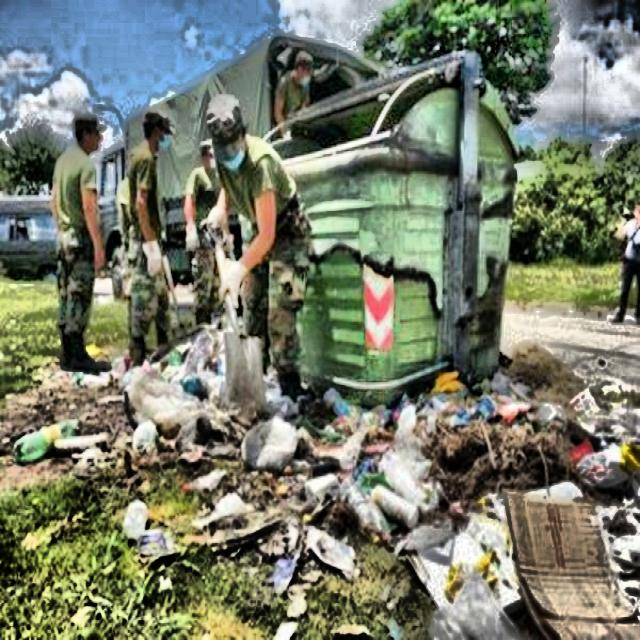garbage: (256, 391, 639, 638), (112, 432, 265, 560), (136, 326, 248, 439), (504, 338, 590, 410), (17, 411, 99, 454)
